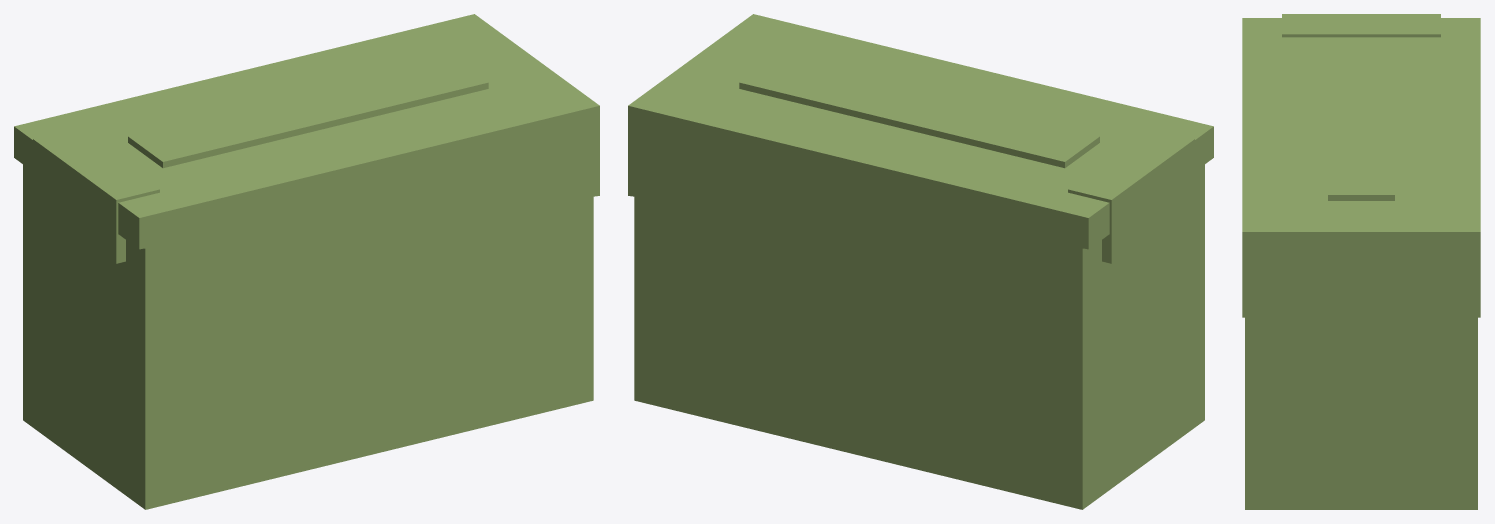
Rendered from ammo box closed.fbx.
The picture shows the model from 3 angles, left to right: view 1: azimuth 30°, elevation 25°; view 2: azimuth 150°, elevation 25°; view 3: azimuth 270°, elevation 25°; orthographic projection. The views are drawn at different scales.
Visible parts, largest first — view 1: Cube; view 2: Cube; view 3: Cube.
Boxes of the visible parts, box(x1,y1,x2,y2) form: Cube: box(14, 14, 599, 509); Cube: box(628, 14, 1213, 509); Cube: box(1242, 14, 1480, 509).
Size of the model in its own units: 245 by 153 by 115.
